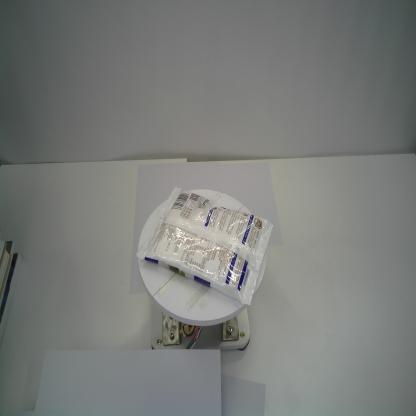Seasoner: (136, 184, 274, 306)
